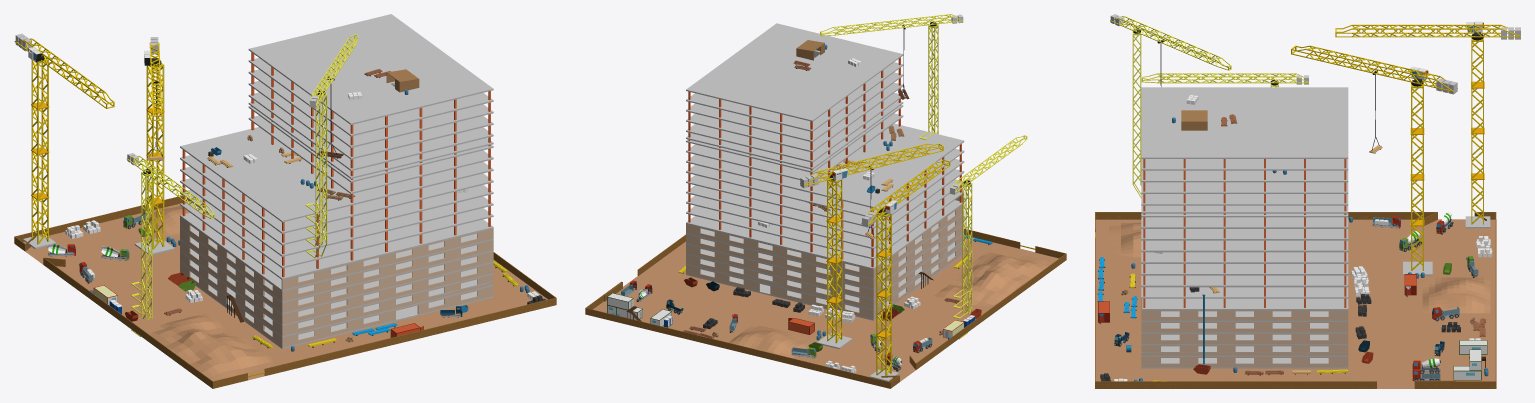
The model's file is HouseConstructionSite.glb.
3 views of the same model, side by side, from view 1: azimuth 30°, elevation 25°; view 2: azimuth 150°, elevation 25°; view 3: azimuth 270°, elevation 25° (orthographic). The views are drawn at different scales.
Visible parts, largest first — view 1: BuildingFloor.001, BuildingSmallFloor.001, Ground, Fassade, Fence, Crane Ground unrotated, Crane Ground, Crane Mounted, Crane Mounted unrotated, BuildingSingleSmallFloor, BuildingBase, BuildingSingleFloor; view 2: BuildingFloor.001, BuildingSmallFloor.001, Ground, Fassade, Fence, Crane Ground, Crane Ground unrotated, Crane Mounted, Crane Mounted unrotated, BuildingSingleSmallFloor, BuildingBase, BuildingSingleFloor; view 3: Ground, BuildingSmallFloor.001, BuildingFloor.001, Fassade, Fence, Crane Ground, Crane Ground unrotated, Crane Mounted, BuildingSingleSmallFloor, Crane Mounted unrotated, BuildingBase, BuildingSingleFloor (+2 smaller).
Boxes of the visible parts, box(x1,y1,x2,y2) form: BuildingFloor.001: box(180, 127, 493, 337); BuildingSmallFloor.001: box(248, 14, 493, 202); Ground: box(23, 203, 547, 381); Fassade: box(180, 217, 493, 347); Fence: box(14, 196, 556, 388); Crane Ground unrotated: box(14, 33, 114, 249); Crane Ground: box(134, 37, 174, 255); Crane Mounted: box(305, 34, 358, 258); Crane Mounted unrotated: box(127, 153, 214, 336); BuildingSingleSmallFloor: box(248, 101, 493, 186); BuildingBase: box(190, 272, 493, 348); BuildingSingleFloor: box(190, 260, 491, 332); BuildingFloor.001: box(686, 123, 964, 310); BuildingSmallFloor.001: box(686, 23, 903, 190); Ground: box(593, 237, 1058, 381); Fassade: box(686, 193, 964, 319); Fence: box(585, 228, 1066, 388); Crane Ground: box(800, 143, 943, 348); Crane Ground unrotated: box(861, 159, 950, 381); Crane Mounted: box(820, 14, 963, 139); Crane Mounted unrotated: box(949, 135, 1027, 339); BuildingSingleSmallFloor: box(686, 100, 903, 174); BuildingBase: box(686, 252, 963, 320); BuildingSingleFloor: box(700, 242, 961, 307); Ground: box(1095, 219, 1496, 388); BuildingSmallFloor.001: box(1141, 87, 1348, 238); BuildingFloor.001: box(1141, 229, 1348, 356); Fassade: box(1141, 298, 1348, 367); Fence: box(1095, 212, 1496, 388); Crane Ground: box(1291, 45, 1457, 275); Crane Ground unrotated: box(1335, 21, 1520, 228); Crane Mounted: box(1110, 14, 1231, 197); BuildingSingleSmallFloor: box(1141, 205, 1348, 222); Crane Mounted unrotated: box(1141, 73, 1308, 87); BuildingBase: box(1141, 358, 1348, 368); BuildingSingleFloor: box(1141, 346, 1348, 353).
Size of the model in its own units: 100 by 76.89 by 106.
Materials: 2 (2 with a texture image).
